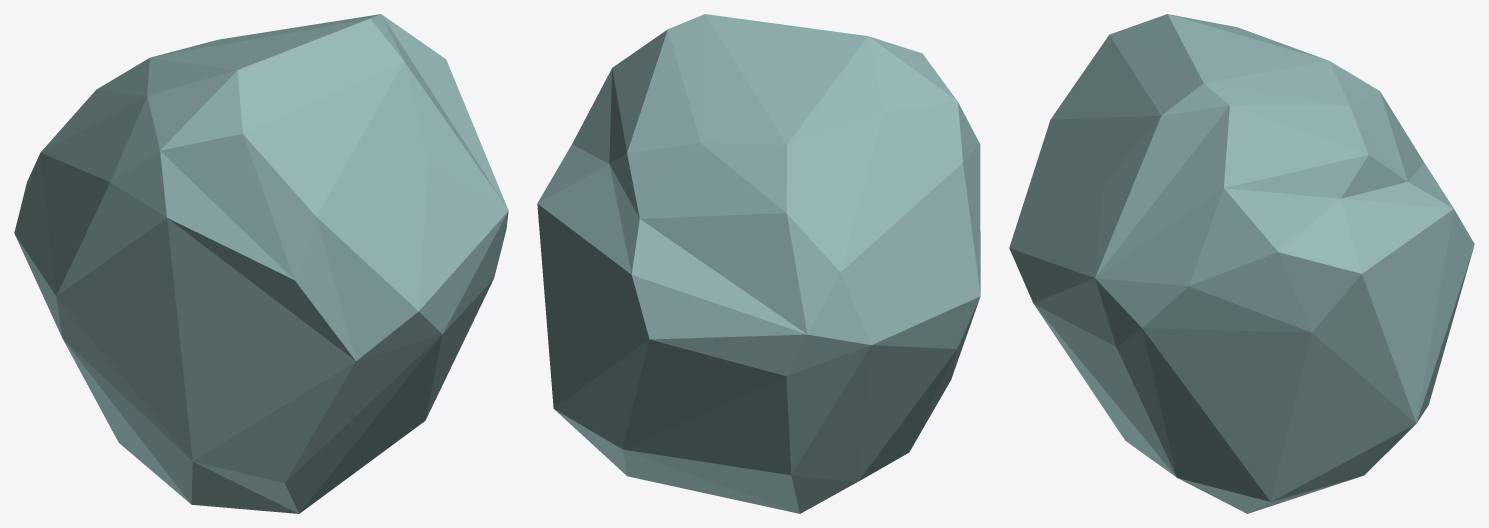
Rendered from blue_rock.fbx.
3 renders of one model, left to right at view 1: azimuth 30°, elevation 25°; view 2: azimuth 150°, elevation 25°; view 3: azimuth 270°, elevation 25°, orthographic. The views are drawn at different scales.
Visible parts, largest first — view 1: pPlatonic1; view 2: pPlatonic1; view 3: pPlatonic1.
Boxes of the visible parts, x1,y1,x2,y2 form: pPlatonic1: (14,14,508,513); pPlatonic1: (537,14,980,513); pPlatonic1: (1009,14,1474,513).
Bounding box in the file's own units: 1.97 × 2.09 × 2.07.
